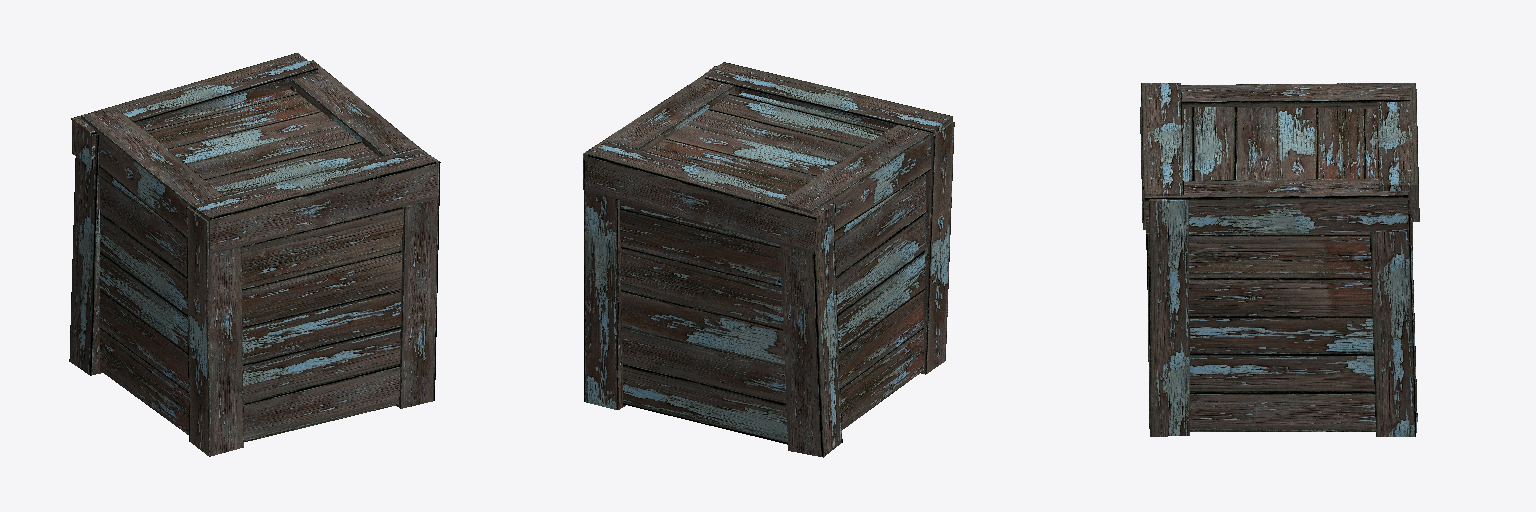
3 views of the same model, side by side, from view 1: azimuth 30°, elevation 25°; view 2: azimuth 150°, elevation 25°; view 3: azimuth 270°, elevation 25° (orthographic).
Visible parts, largest first — view 1: Box; view 2: Box; view 3: Box.
Boxes of the visible parts, box(x1,y1,x2,y2) form: Box: box(69, 53, 440, 456); Box: box(583, 62, 954, 457); Box: box(1140, 83, 1419, 436).
Size of the model in its own units: 0.7661 by 0.7592 by 0.7665.
1 materials, 1 textured.